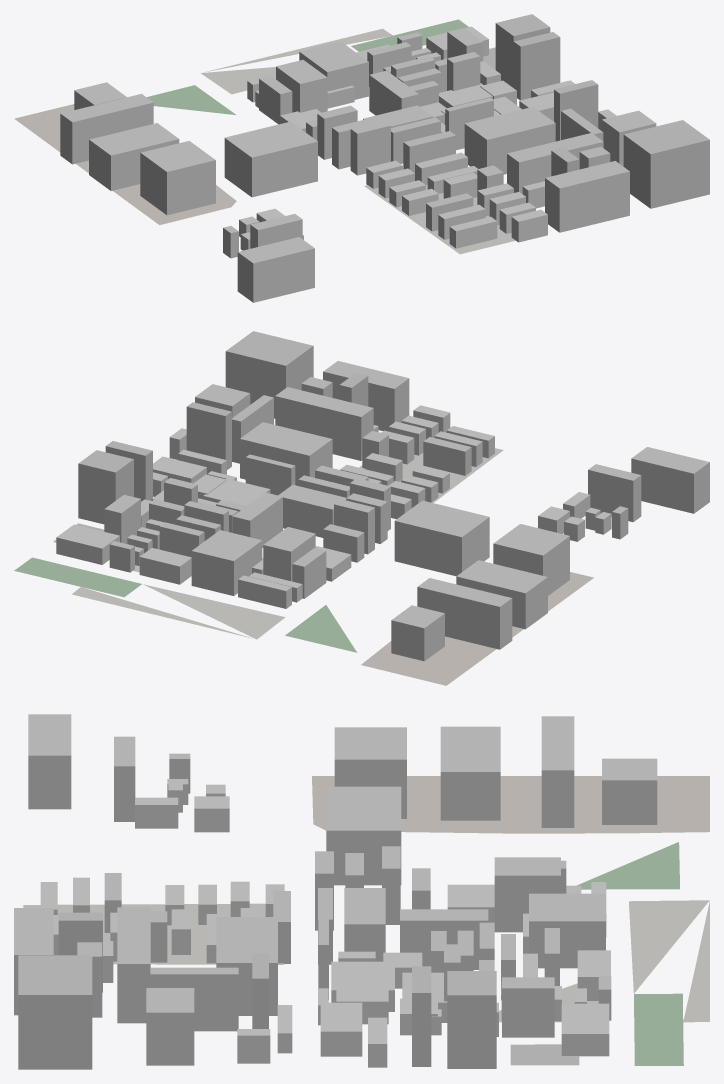
Rendered from 120_108_mid.glb.
3 views of the same model, one above another, from view 1: azimuth 30°, elevation 25°; view 2: azimuth 150°, elevation 25°; view 3: azimuth 270°, elevation 25° (orthographic). The views are drawn at different scales.
Size of the model in its own units: 521 by 61.52 by 507.
